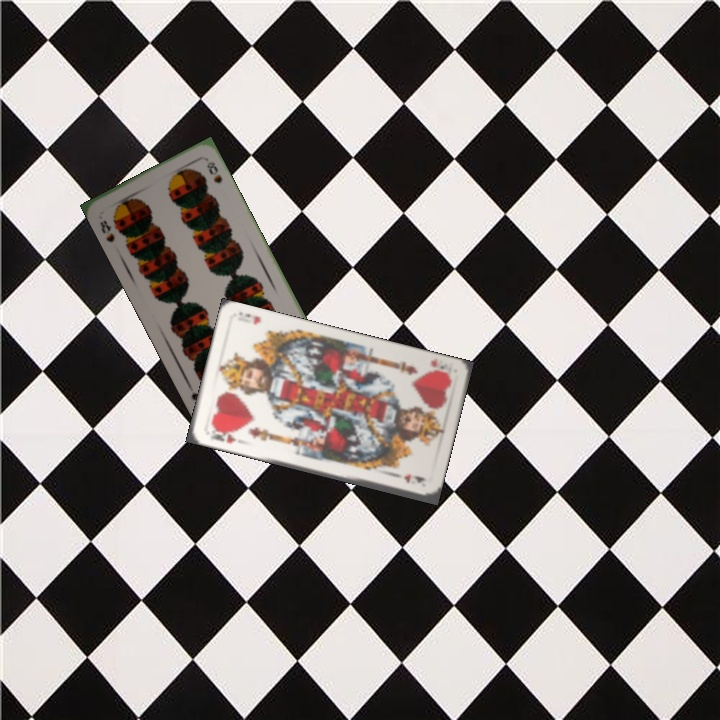HK: (206, 424, 238, 446), (427, 355, 455, 377)
S8: (96, 216, 117, 245)
